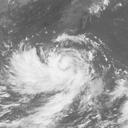cyclone: (9, 45, 90, 95)
